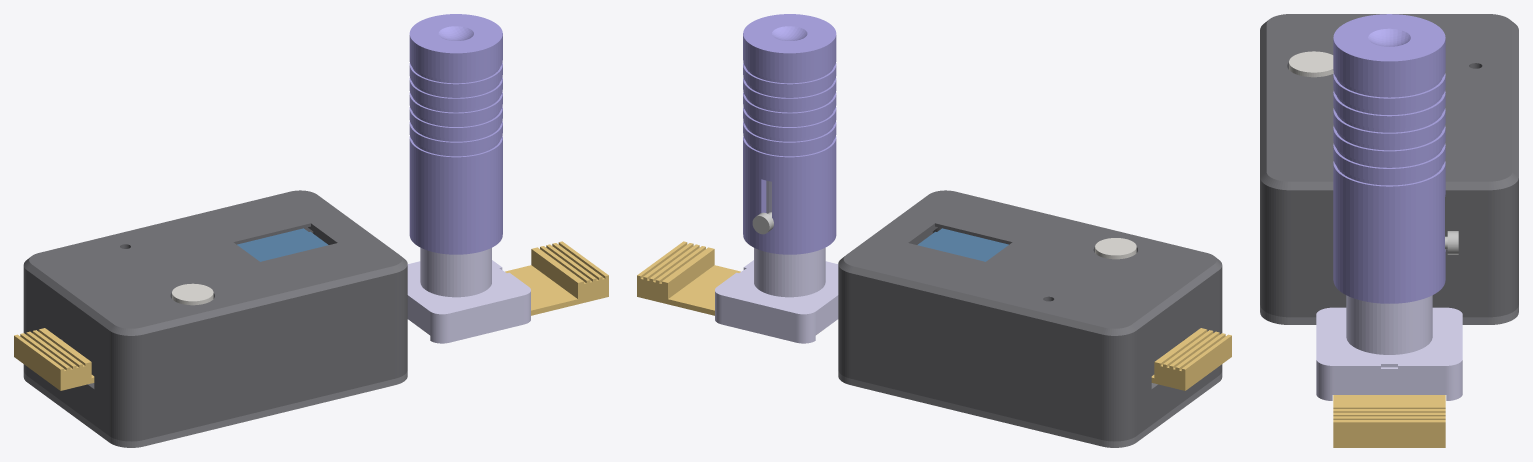
The model's file is blotly-assembled.glb.
The picture shows the model from 3 angles, left to right: view 1: azimuth 30°, elevation 25°; view 2: azimuth 150°, elevation 25°; view 3: azimuth 270°, elevation 25°; orthographic projection. The views are drawn at different scales.
Parts seen in each view (by area): view 1: Base body, Sampler sleeve, Piston + foot, Cassette (sampling), Cassette (reading), Bottom plate, 0.96" OLED, Tactile button; view 2: Base body, Sampler sleeve, Piston + foot, Cassette (sampling), Cassette (reading), Bottom plate, 0.96" OLED, Tactile button; view 3: Base body, Sampler sleeve, Piston + foot, Cassette (sampling), Tactile button, Bottom plate, M3 peg screw.
Part boxes in pixels (bbox=[...]): Base body: bbox=[23, 190, 407, 441]; Sampler sleeve: bbox=[409, 14, 502, 254]; Piston + foot: bbox=[407, 247, 530, 343]; Cassette (sampling): bbox=[505, 241, 608, 315]; Cassette (reading): bbox=[14, 328, 94, 390]; Bottom plate: bbox=[23, 371, 407, 447]; 0.96" OLED: bbox=[237, 228, 328, 261]; Tactile button: bbox=[172, 283, 213, 305]; Base body: bbox=[838, 190, 1222, 441]; Sampler sleeve: bbox=[743, 14, 836, 254]; Piston + foot: bbox=[715, 180, 838, 343]; Cassette (sampling): bbox=[637, 241, 740, 315]; Cassette (reading): bbox=[1151, 328, 1231, 390]; Bottom plate: bbox=[838, 371, 1222, 447]; 0.96" OLED: bbox=[917, 228, 1008, 261]; Tactile button: bbox=[1095, 238, 1136, 259]; Base body: bbox=[1260, 14, 1518, 317]; Sampler sleeve: bbox=[1333, 14, 1445, 303]; Piston + foot: bbox=[1316, 295, 1462, 400]; Cassette (sampling): bbox=[1333, 395, 1445, 447]; Tactile button: bbox=[1289, 51, 1333, 77]; Bottom plate: bbox=[1260, 305, 1518, 324]; M3 peg screw: bbox=[1445, 231, 1458, 254].
Bounding box in the file's own units: 0.1767 × 0.0875 × 0.06.
